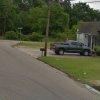Car: (51, 32, 98, 60)
